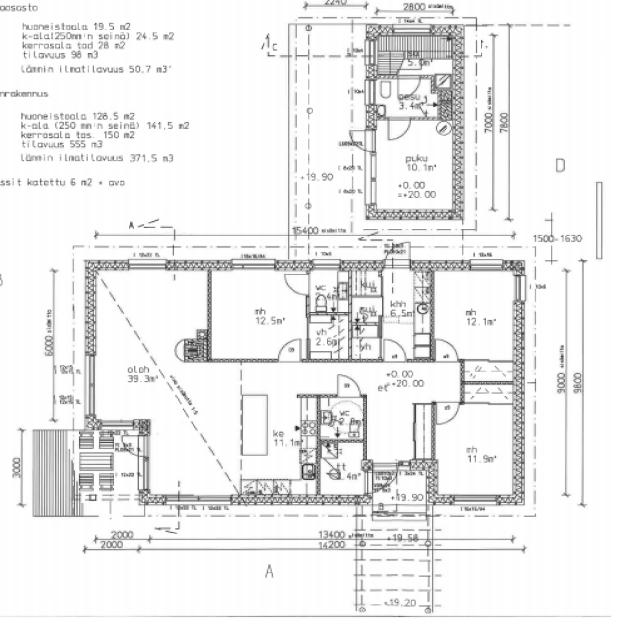door: (385, 237, 410, 271), (374, 460, 398, 493), (115, 435, 150, 457), (341, 130, 376, 152), (360, 472, 394, 492), (278, 338, 301, 363), (384, 338, 407, 363), (435, 338, 458, 363), (283, 274, 309, 296), (436, 402, 459, 426), (397, 76, 420, 100), (337, 374, 360, 397), (388, 117, 411, 140)
